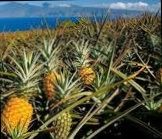Pineapple: (3, 48, 42, 137)
